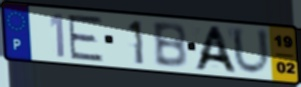1: (126, 19, 147, 66), (48, 12, 65, 59)
A: (191, 25, 240, 75)
B: (150, 21, 190, 70)
E: (66, 13, 105, 63)
U: (229, 25, 273, 78)
